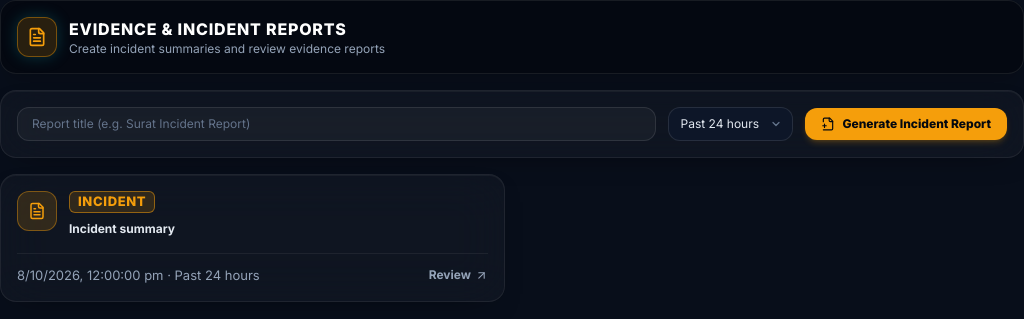
Test case: handles failures when opening an existing report without breaking the page
Click the heading "Incident summary".
click(122, 228)  # box 69,220 -> 175,236
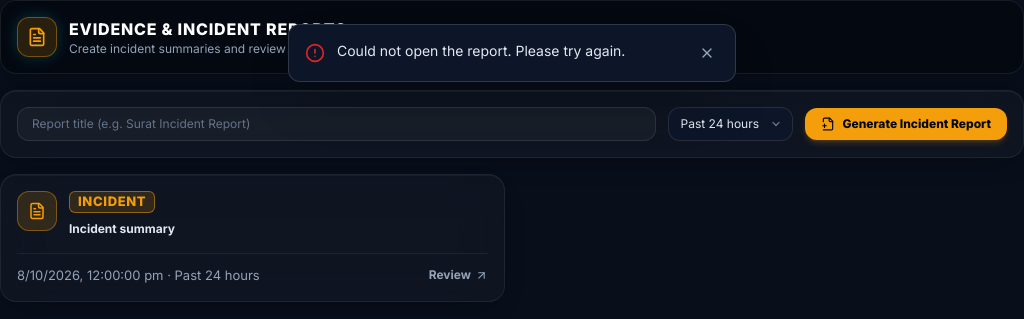
Expected: the button "Generate Incident Report" is enabled, 804,108 -> 1007,140
Expected: the message reads "Could not open the report. Please try again.", 337,42 -> 625,59
